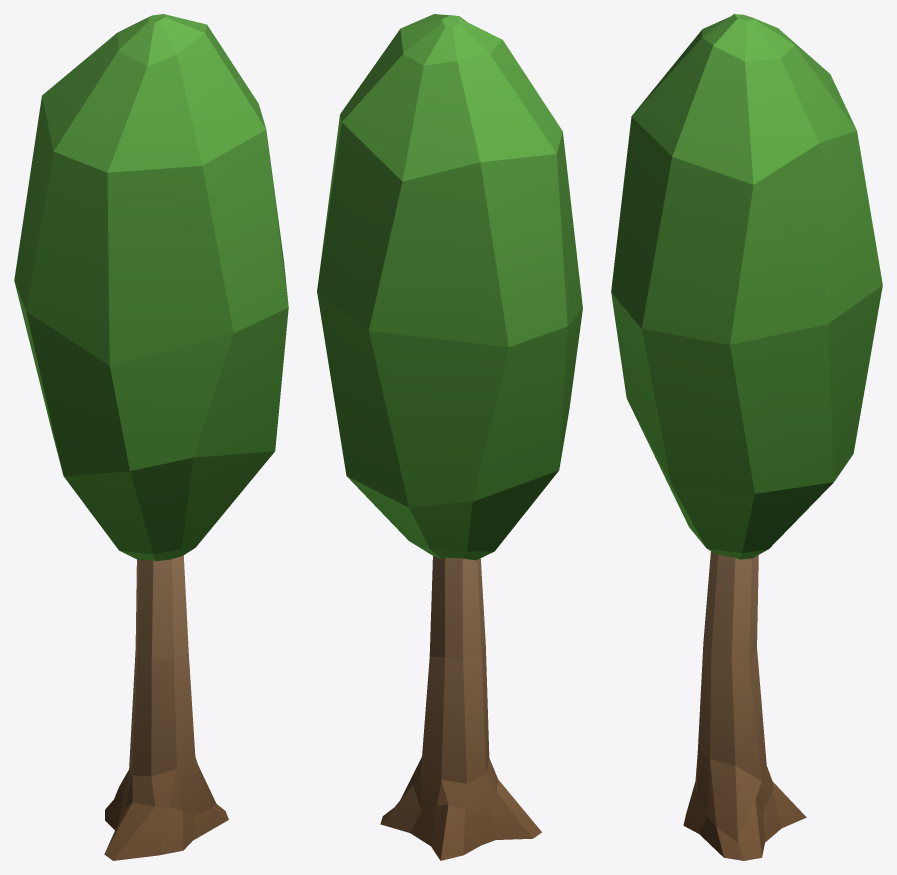
File: tree_poplar_green.fbx
3 views of the same model, side by side, from view 1: azimuth 30°, elevation 25°; view 2: azimuth 150°, elevation 25°; view 3: azimuth 270°, elevation 25° (orthographic).
Visible parts, largest first — view 1: tree_poplar_green; view 2: tree_poplar_green; view 3: tree_poplar_green.
Boxes of the visible parts, <box> form: tree_poplar_green: <box>14,14,288,860</box>; tree_poplar_green: <box>317,14,582,860</box>; tree_poplar_green: <box>611,14,882,860</box>.
Size of the model in its own units: 2.95 by 9.4 by 2.85.
1 material, 1 textured.
